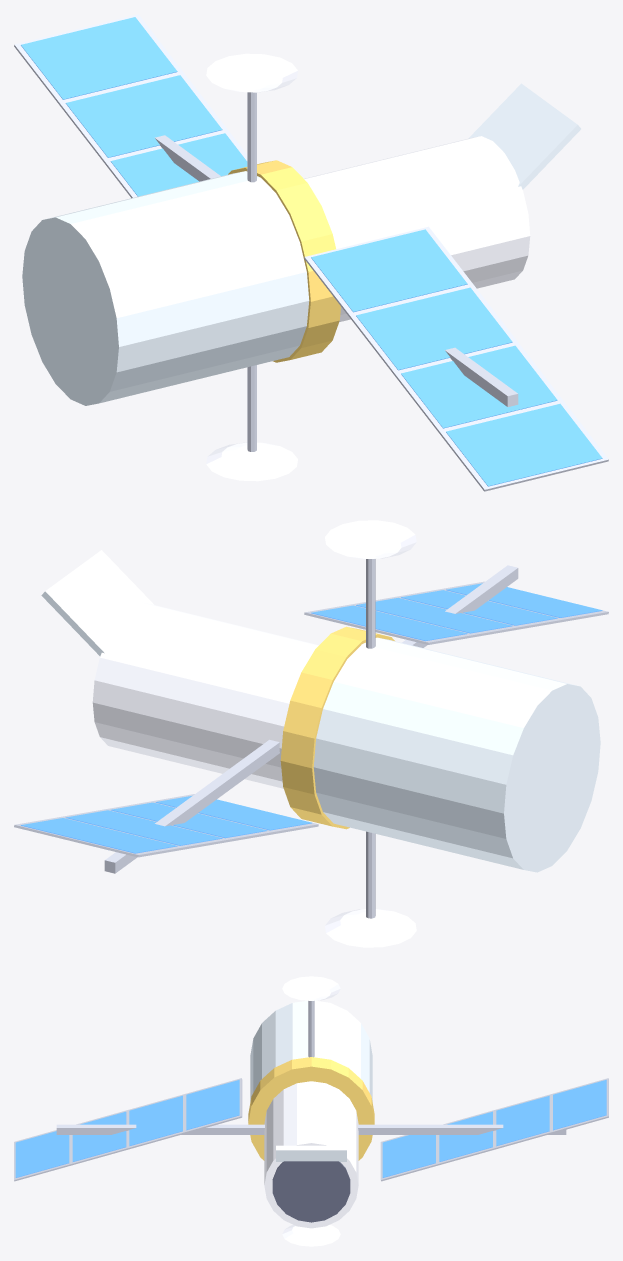
The model's file is telescope.glb.
3 renders of one model, top to bottom at view 1: azimuth 30°, elevation 25°; view 2: azimuth 150°, elevation 25°; view 3: azimuth 270°, elevation 25°, orthographic. The views are drawn at different scales.
Parts seen in each view (by area): view 1: Spacecraft; view 2: Spacecraft; view 3: Spacecraft.
Boxes of the visible parts, x1,y1,x2,y2 form: Spacecraft: [14, 14, 608, 491]; Spacecraft: [14, 520, 608, 947]; Spacecraft: [14, 976, 608, 1246].
Bounding box in the file's own units: 13.83 × 10.64 × 23.36.
